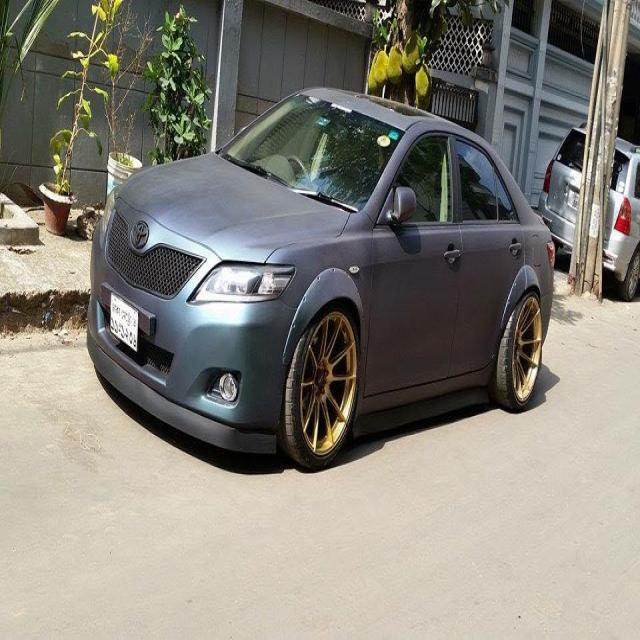numberplate: (108, 292, 138, 352)
